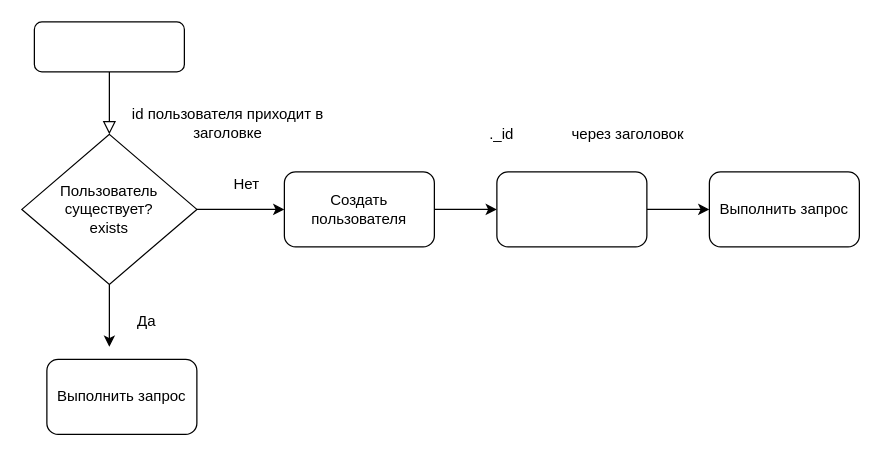
Image size: 881x456. Some labels were removed from this diagram. Here are the shapes that lost their labels. From the top down, the box of each, then its label:
(33, 21, 184, 72): /api/*
(496, 171, 647, 247): Вернуть id созданного пользователя
